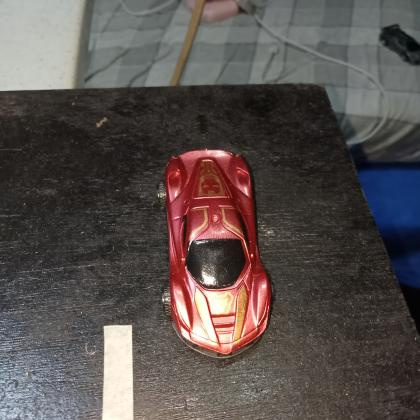Car: (150, 147, 276, 362)
